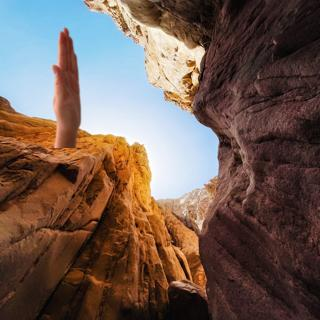Right: (48, 24, 89, 140)
